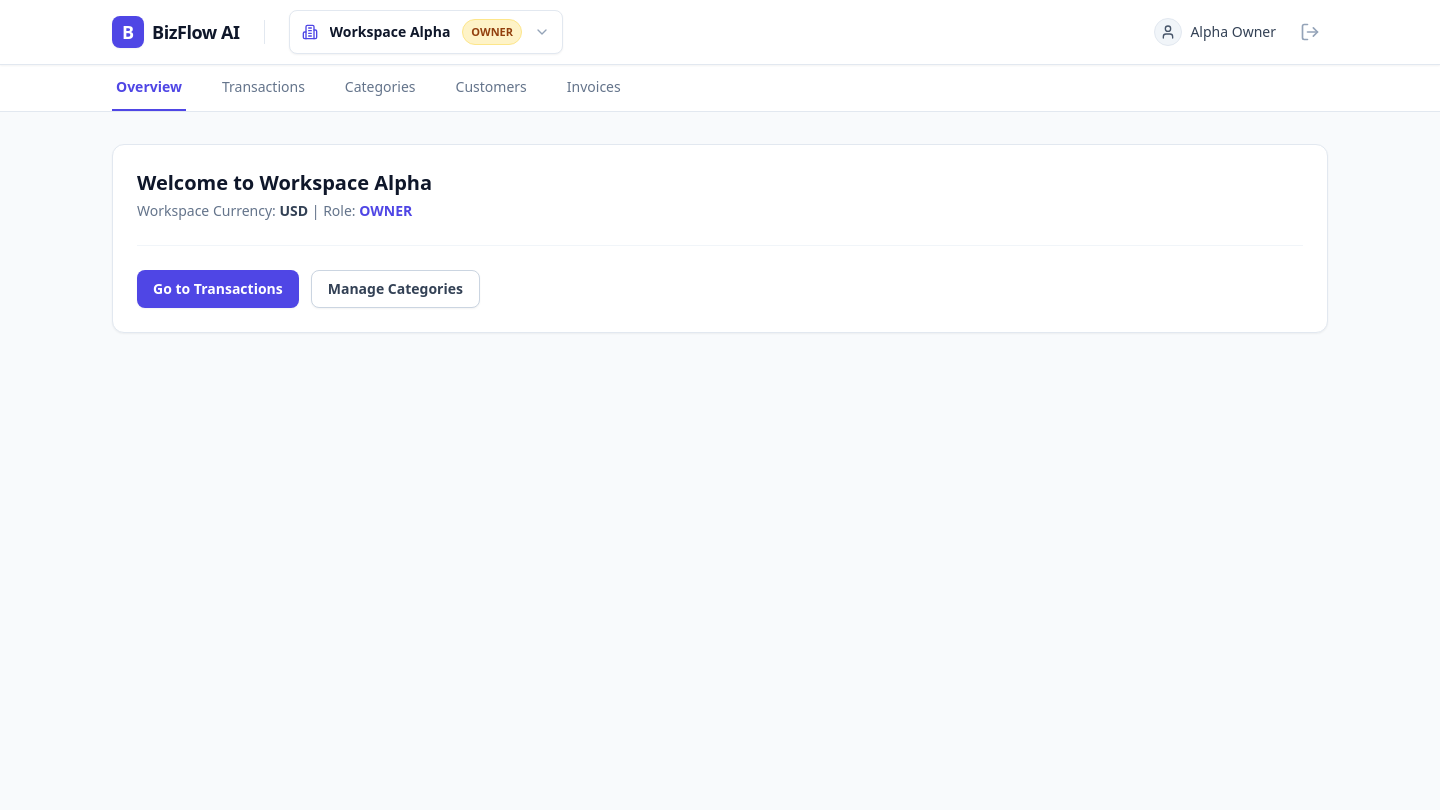
Layout Navigation, Concurrency & Category Regression Suite › Scenario 17: ABA Race Protection prevents delayed A(Gen 1) response from corrupting A(Gen 3)
// In Gen 1, go to transactions (triggers delayed gen 1 request)
Click the tab "Transactions" at coordinates (263, 88), box [218, 65, 309, 111]
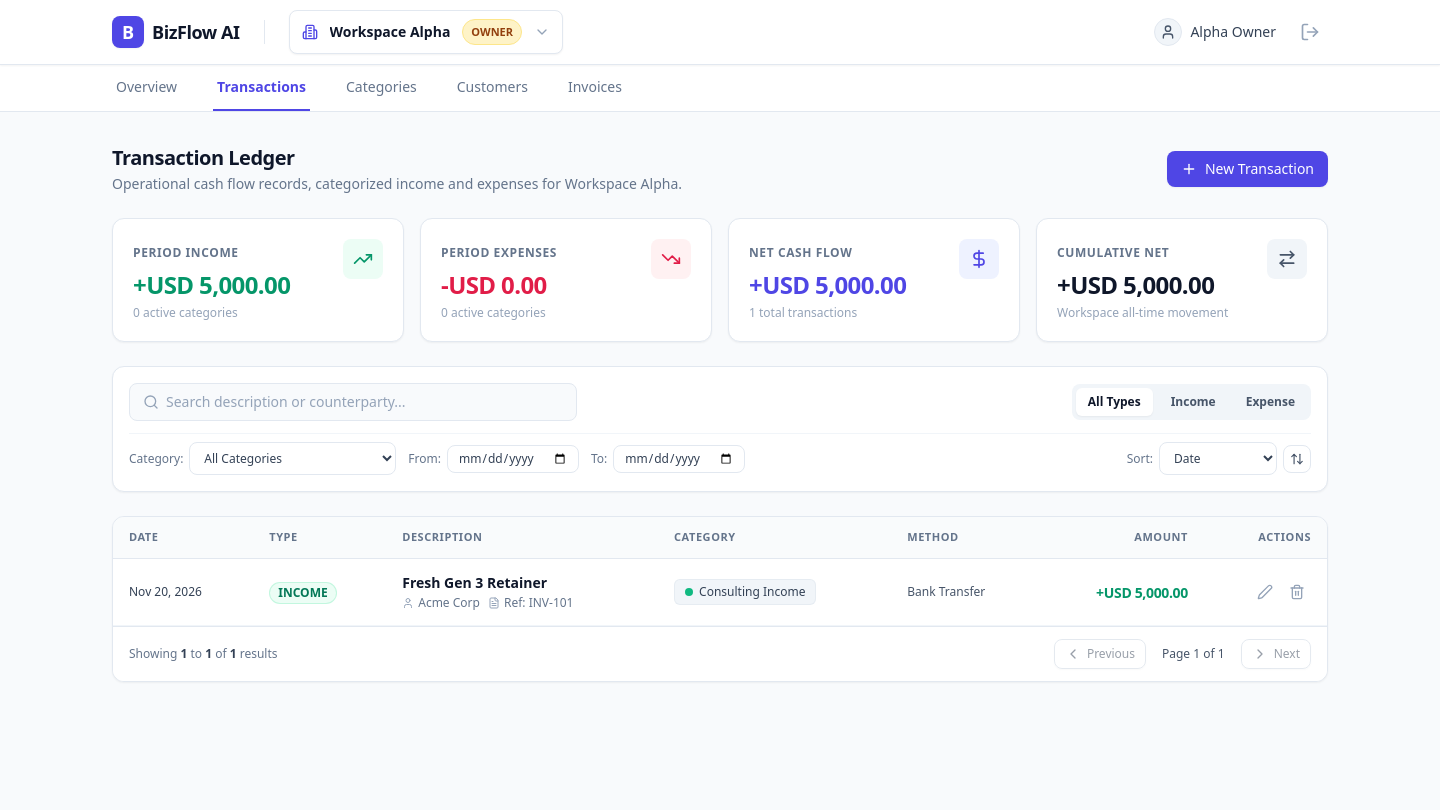
Now the text "Fresh Gen 3 Retainer" is shown, box [402, 572, 547, 592]
